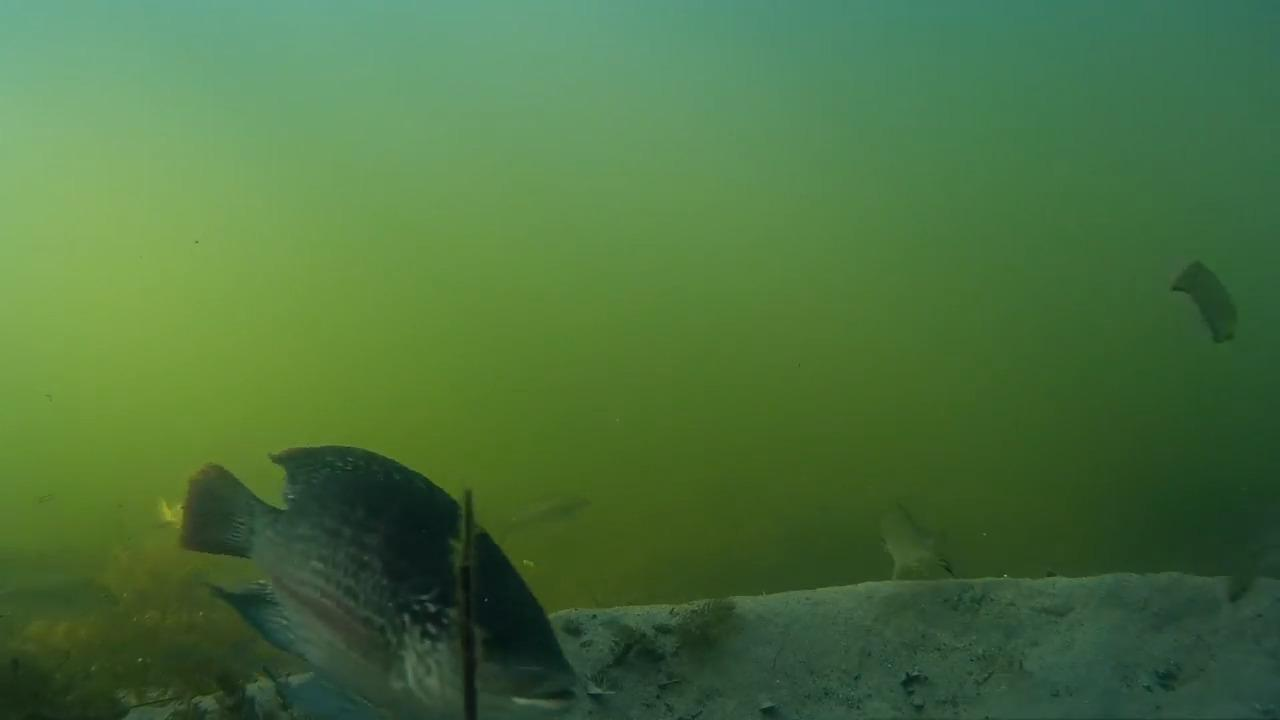Tilapia: (176, 426, 583, 716), (864, 488, 969, 600)
